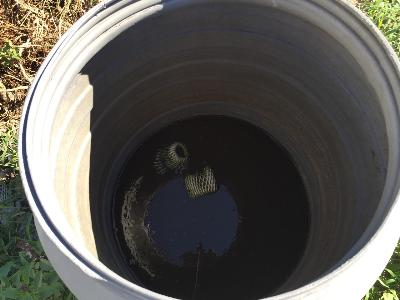bucket: (18, 1, 400, 300)
